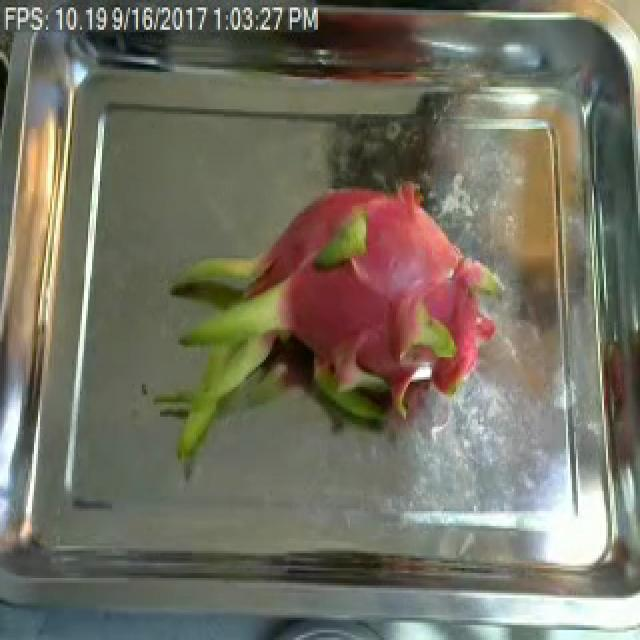fruit: (136, 156, 506, 484)
